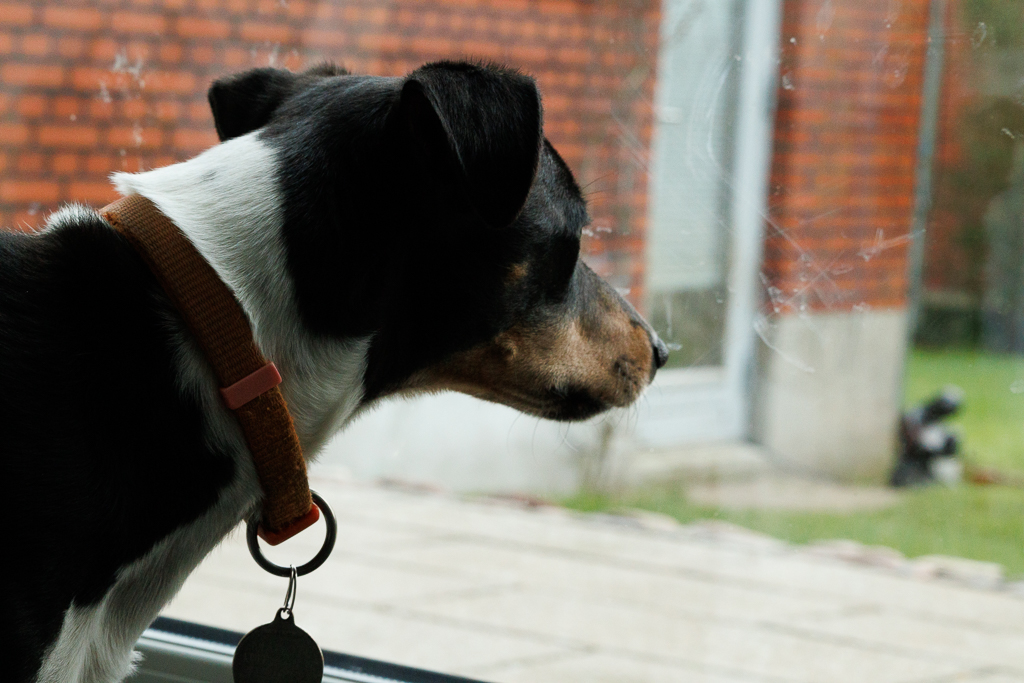Dog: (0, 44, 683, 683)
Humanoid: (867, 371, 980, 503)
